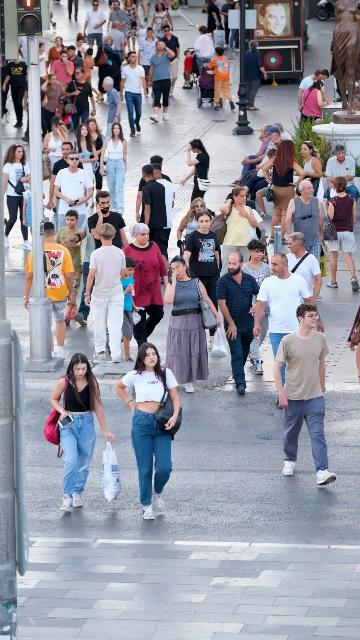person: (114, 342, 183, 522), (272, 302, 337, 488), (253, 252, 325, 408), (50, 353, 116, 515), (163, 254, 222, 394), (23, 222, 75, 361), (216, 251, 261, 397), (85, 223, 128, 364), (122, 223, 169, 350), (51, 151, 94, 274), (263, 140, 306, 245), (241, 239, 273, 376), (323, 176, 360, 292), (183, 210, 221, 316), (219, 185, 261, 275), (56, 210, 86, 325), (2, 143, 33, 251), (139, 165, 173, 263), (285, 181, 325, 262), (284, 232, 322, 307), (99, 122, 128, 216), (228, 124, 271, 187), (119, 51, 150, 137), (146, 40, 178, 123), (86, 191, 129, 252), (119, 255, 143, 363), (136, 154, 172, 223), (244, 124, 283, 186), (176, 197, 215, 258), (46, 142, 78, 213), (179, 139, 211, 208), (137, 27, 164, 103), (203, 47, 235, 111), (65, 66, 97, 130), (2, 54, 28, 129), (323, 145, 358, 200), (41, 73, 70, 138), (243, 40, 268, 111), (43, 116, 69, 184), (84, 118, 108, 191), (94, 36, 122, 98), (297, 69, 328, 121), (248, 149, 277, 204), (73, 124, 97, 188), (159, 25, 180, 93), (102, 76, 123, 142), (299, 142, 323, 198), (83, 0, 107, 55), (151, 164, 175, 218), (121, 0, 143, 58), (302, 80, 330, 125), (193, 25, 217, 73), (82, 48, 103, 102), (105, 21, 127, 69), (50, 51, 75, 90), (45, 36, 69, 74), (150, 1, 174, 32), (107, 0, 129, 33), (38, 41, 54, 85), (252, 210, 268, 248), (182, 50, 197, 89), (205, 0, 221, 33), (74, 35, 92, 59), (68, 45, 84, 71), (274, 122, 292, 141), (140, 0, 149, 22), (353, 93, 360, 111)
